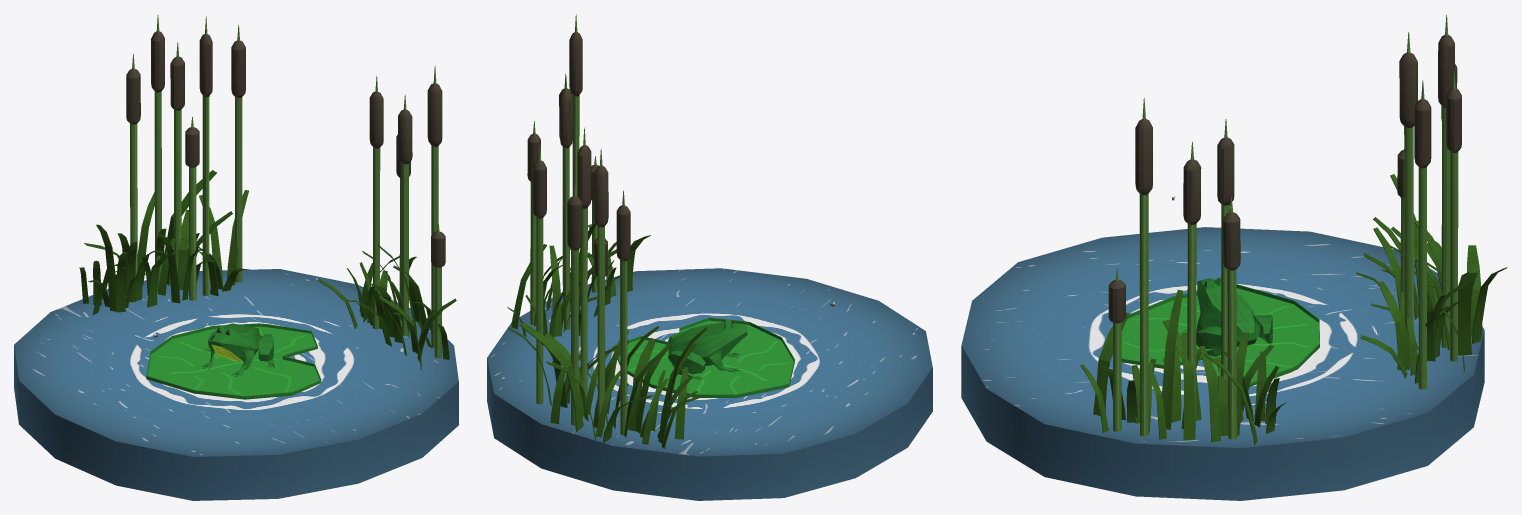
3 renders of one model, left to right at view 1: azimuth 30°, elevation 25°; view 2: azimuth 150°, elevation 25°; view 3: azimuth 270°, elevation 25°, orthographic. The views are drawn at different scales.
Visible parts, largest first — view 1: wo-a _0, Typha.003_5, grass.035_1, lILLYwater_2, FROG_3; view 2: wo-a _0, Typha.003_5, grass.035_1, lILLYwater_2, FROG_3; view 3: wo-a _0, grass.035_1, Typha.003_5, lILLYwater_2, FROG_3.
Boxes of the visible parts, x1,y1,x2,y2 form: wo-a _0: (14, 269, 458, 500); Typha.003_5: (79, 15, 249, 314); grass.035_1: (317, 66, 456, 370); lILLYwater_2: (146, 323, 321, 399); FROG_3: (201, 323, 274, 376); wo-a _0: (487, 268, 932, 500); Typha.003_5: (508, 127, 707, 448); grass.035_1: (507, 14, 650, 337); lILLYwater_2: (612, 317, 794, 397); FROG_3: (668, 319, 747, 380); wo-a _0: (961, 227, 1484, 500); grass.035_1: (1080, 97, 1286, 444); Typha.003_5: (1356, 15, 1507, 389); lILLYwater_2: (1121, 284, 1319, 386); FROG_3: (1184, 277, 1273, 356).
Bounding box in the file's own units: 2.12 × 1.75 × 2.22.
6 materials, 6 textured.
